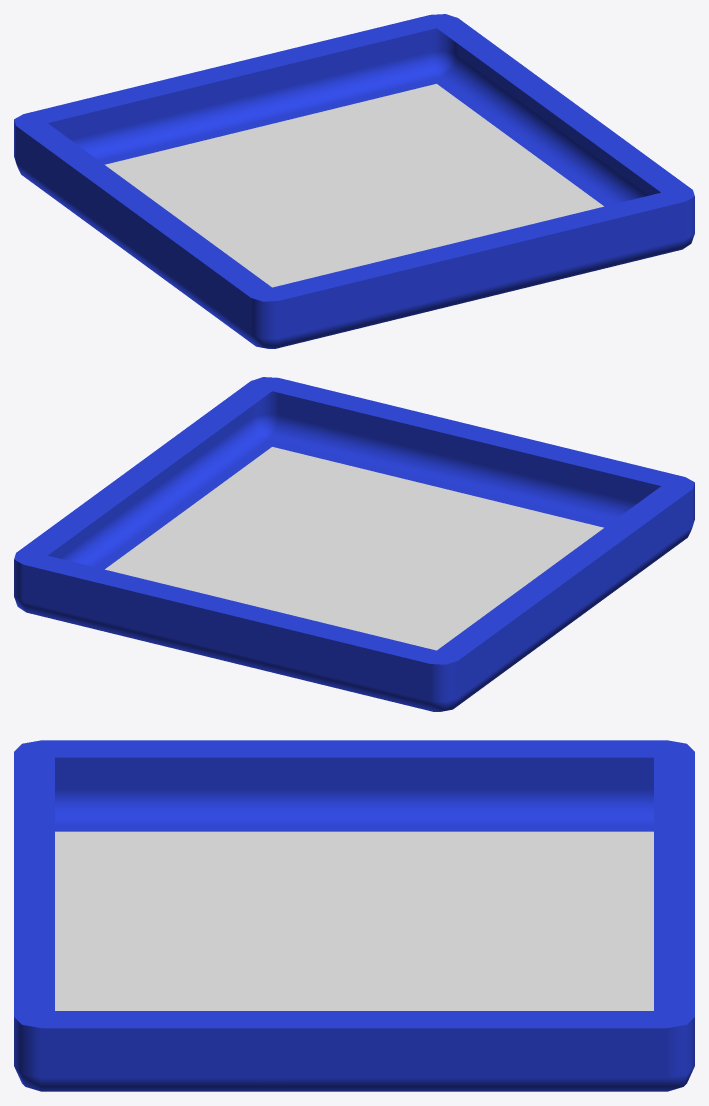
File: SSCCeilingLight1.fbx
3 views of the same model, one above another, from view 1: azimuth 30°, elevation 25°; view 2: azimuth 150°, elevation 25°; view 3: azimuth 270°, elevation 25° (orthographic). The views are drawn at different scales.
Parts seen in each view (by area): view 1: SSCCeilingLight1; view 2: SSCCeilingLight1; view 3: SSCCeilingLight1.
Part boxes in pixels (x1,y1,x2,y2): SSCCeilingLight1: (14,14,694,348); SSCCeilingLight1: (14,377,694,711); SSCCeilingLight1: (14,740,694,1091).
Size of the model in its own units: 50 by 6 by 50.
